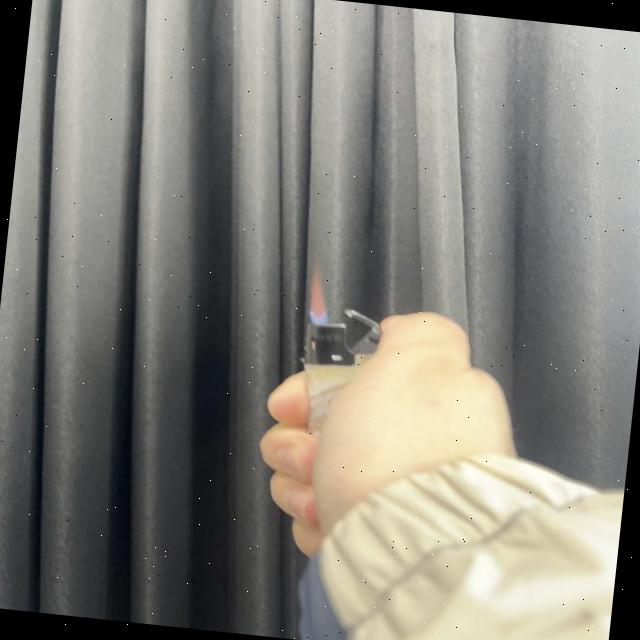fire: (305, 266, 333, 326)
